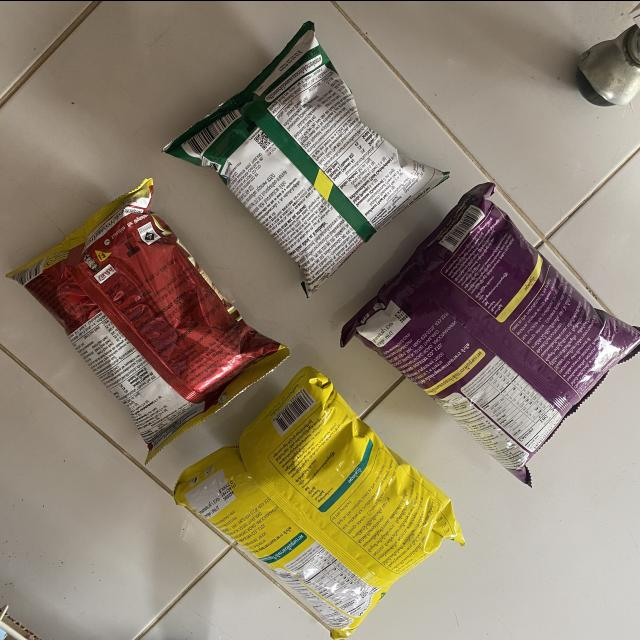plastik: (341, 181, 640, 484), (174, 366, 464, 639), (8, 180, 289, 459), (164, 21, 448, 294)
